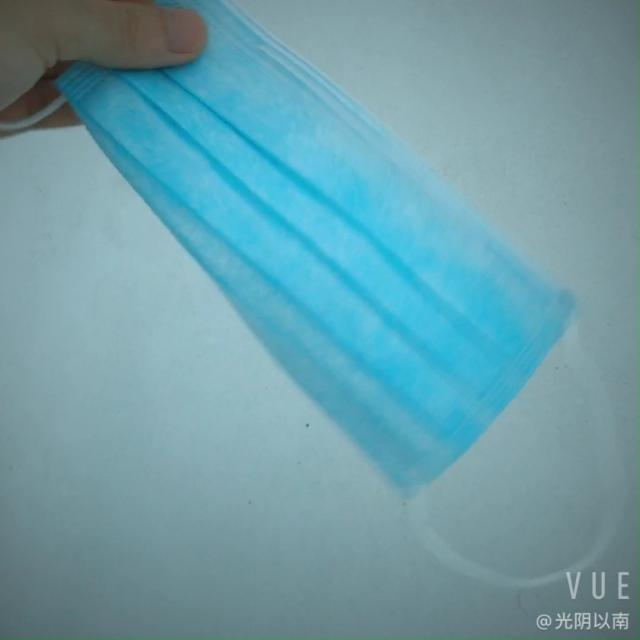face mask: (61, 16, 572, 483)
